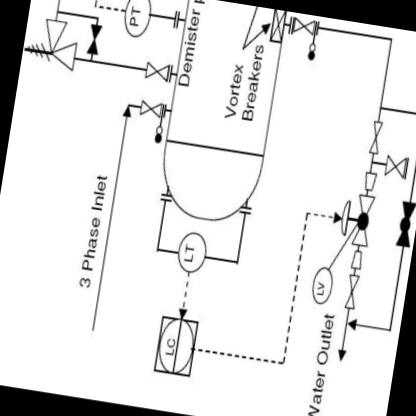LMI: (173, 226, 210, 276)
TAG: (148, 312, 200, 382)
